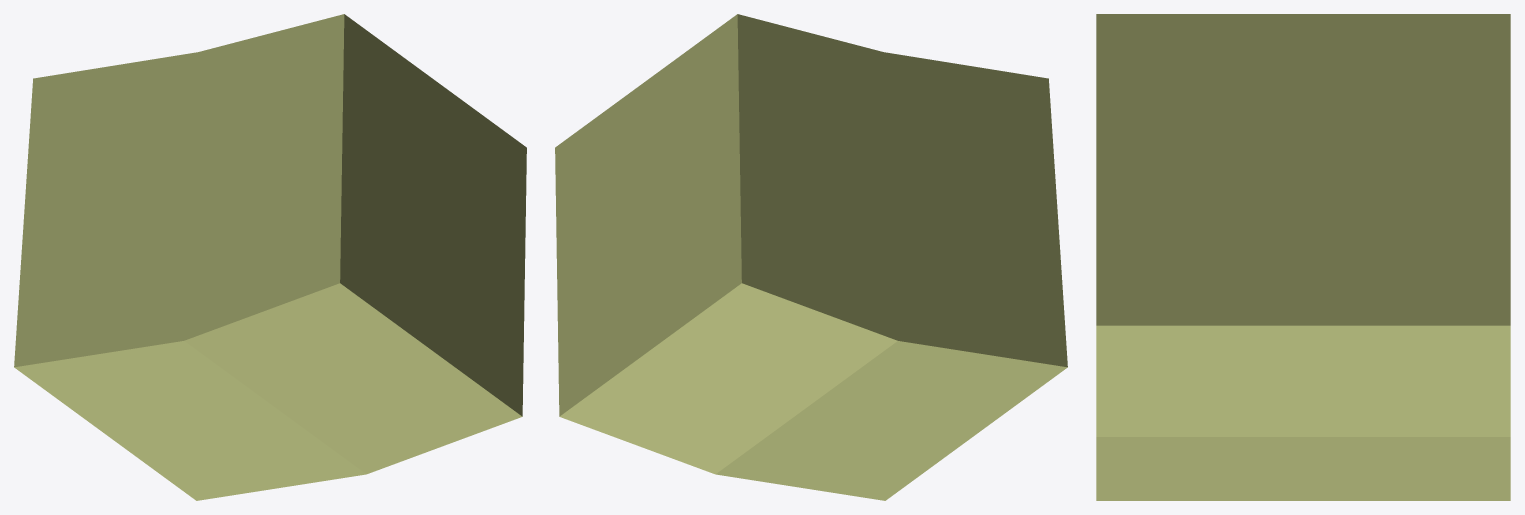
3 renders of one model, left to right at view 1: azimuth 30°, elevation 25°; view 2: azimuth 150°, elevation 25°; view 3: azimuth 270°, elevation 25°, orthographic. The views are drawn at different scales.
Visible parts, largest first — view 1: 0_1_0_0_1_2_3_0_2_0_3; view 2: 0_1_0_0_1_2_3_0_2_0_3; view 3: 0_1_0_0_1_2_3_0_2_0_3.
Boxes of the visible parts, left/top/right/bottom form: 0_1_0_0_1_2_3_0_2_0_3: left=14, top=14, right=526, bottom=500; 0_1_0_0_1_2_3_0_2_0_3: left=555, top=14, right=1067, bottom=500; 0_1_0_0_1_2_3_0_2_0_3: left=1096, top=14, right=1510, bottom=500.
Bounding box in the file's own units: 9.4 × 8.14 × 9.
